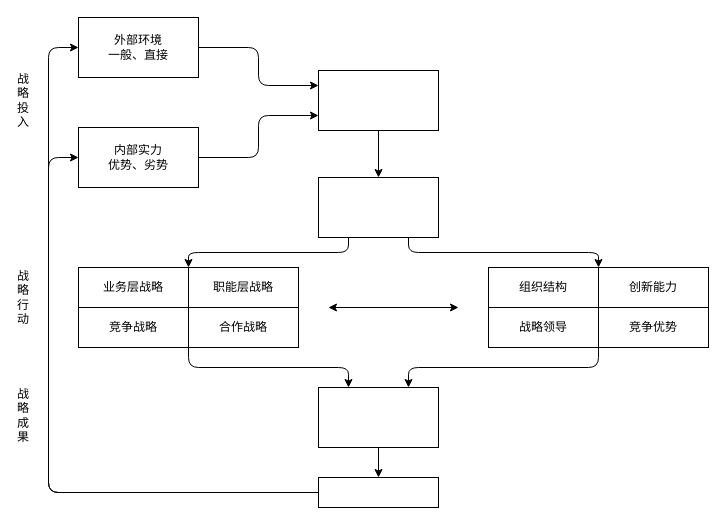
Some shapes in this 726 by 525 pixel diagram are drawn without their labels. The centre of each missing label's shape, as x and y in pixels:
"战略意图 企业使命" goes at (x=378, y=100).
"战略的实施与 执行" goes at (x=378, y=417).
"战略的评价" goes at (x=378, y=492).
"机会威胁分析 战略决策" goes at (x=378, y=207).
